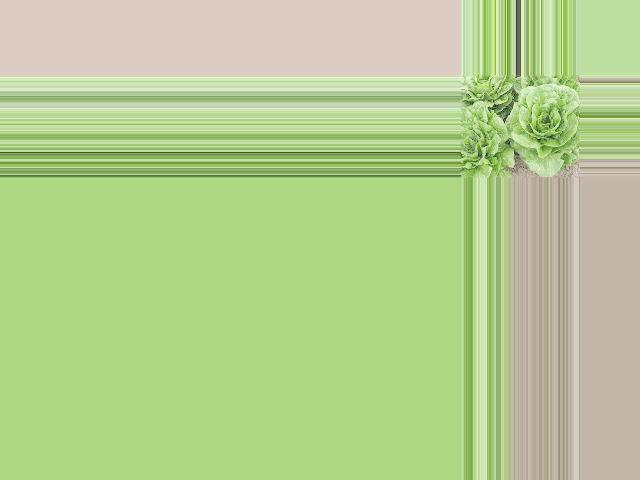lettuce: (459, 101, 507, 175)
